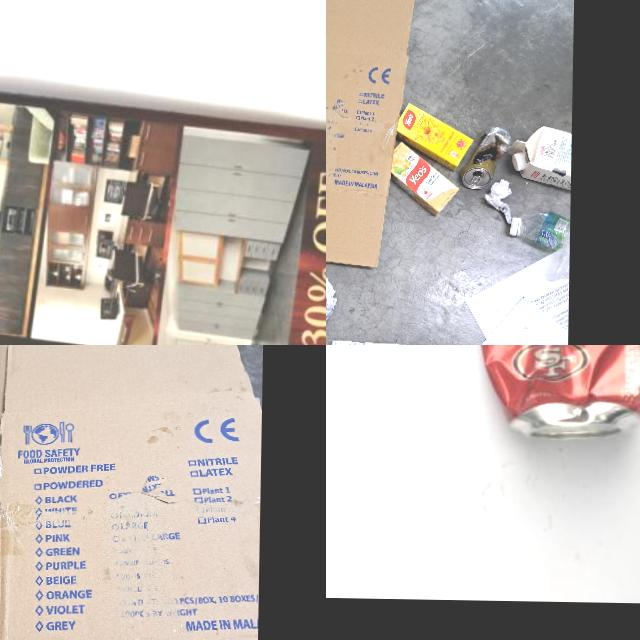aba de lata: (470, 173, 481, 186)
caixinha: (387, 141, 458, 216), (396, 102, 472, 170), (512, 123, 570, 200)
lata: (471, 345, 640, 442), (463, 126, 512, 188)
papel: (0, 58, 326, 345), (462, 219, 569, 345), (484, 178, 514, 222), (326, 271, 336, 335)
papelão: (0, 345, 262, 640), (326, 0, 414, 273)
tampa plástica: (514, 151, 528, 172), (509, 217, 520, 236)
